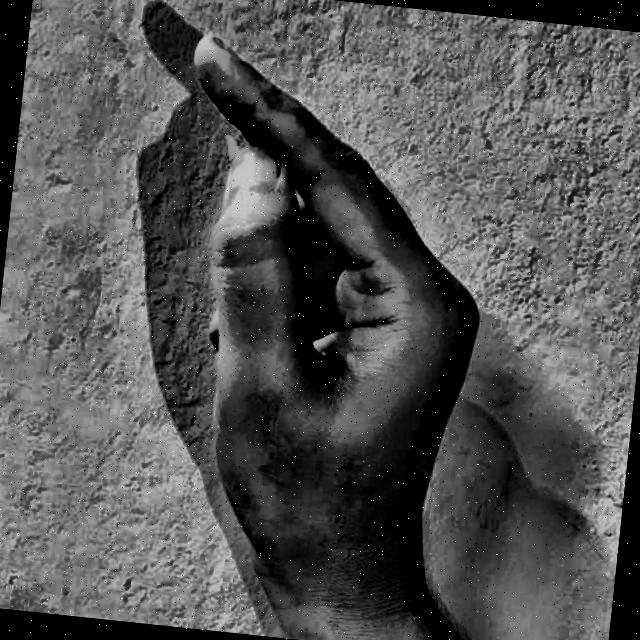Tha: (75, 0, 552, 640)
